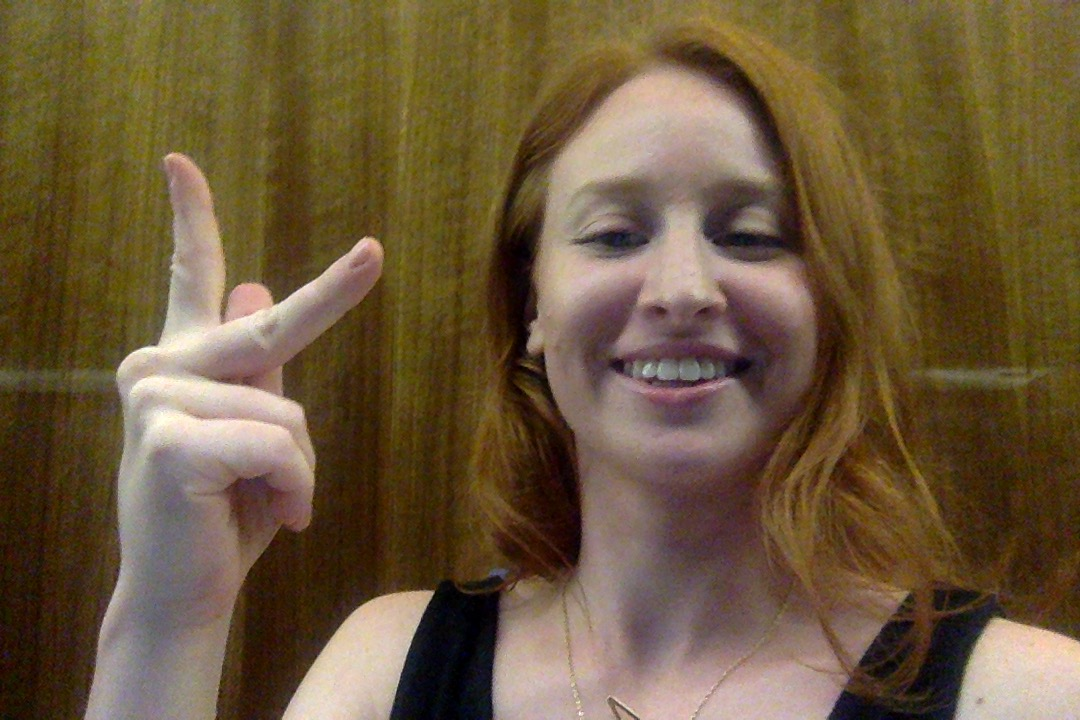k: (109, 143, 392, 585)
